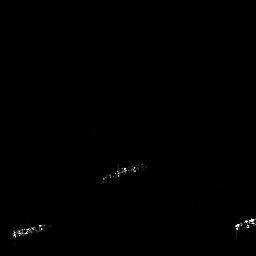ship: (98, 160, 149, 185), (7, 220, 55, 241), (231, 216, 256, 234)
